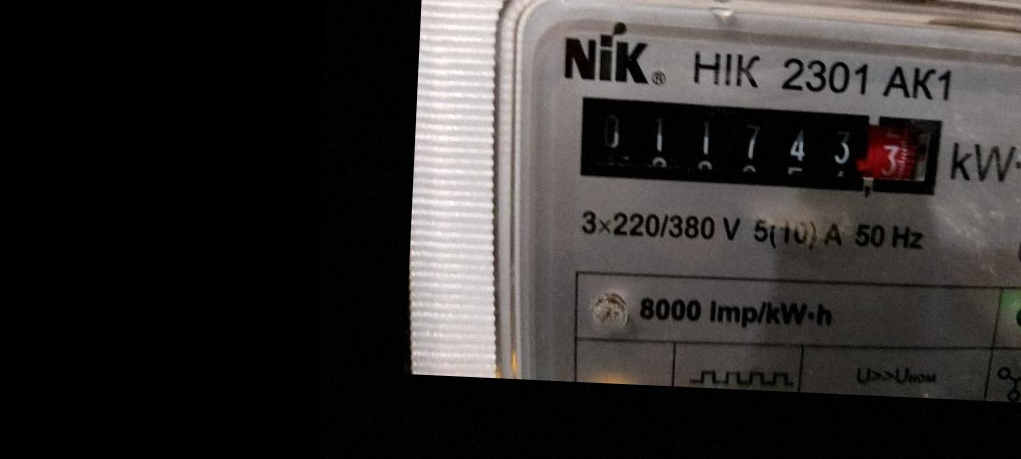0: (599, 111, 623, 151), (649, 113, 669, 154)
1: (696, 116, 714, 157)
3: (831, 125, 853, 169), (878, 140, 900, 179)
4: (786, 123, 808, 164)
7: (739, 118, 764, 163)
screen: (558, 83, 951, 207)
